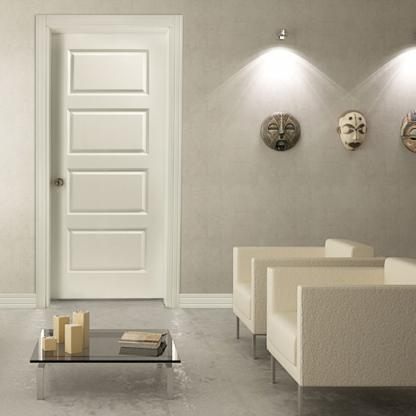door: (49, 31, 162, 300)
